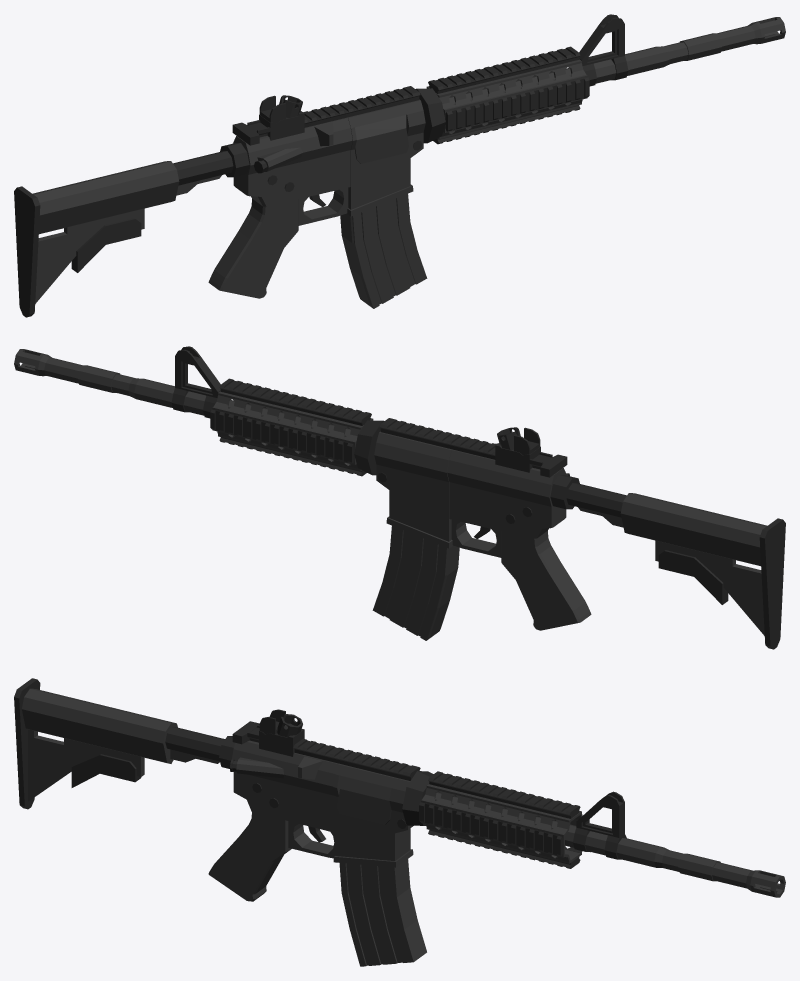
The model's file is Rifle.fbx.
3 renders of one model, top to bottom at view 1: azimuth 30°, elevation 25°; view 2: azimuth 150°, elevation 25°; view 3: azimuth 330°, elevation 25°, orthographic.
Parts seen in each view (by area): view 1: Weapon_02, Weapon_02_7, Weapon_02_2, Weapon_02_5, Weapon_02_6; view 2: Weapon_02, Weapon_02_7, Weapon_02_2, Weapon_02_5, Weapon_02_6; view 3: Weapon_02, Weapon_02_7, Weapon_02_2, Weapon_02_5, Weapon_02_6.
Boxes of the visible parts, left/top/right/bottom form: Weapon_02: left=173, top=17, right=785, bottom=298; Weapon_02_7: left=14, top=161, right=179, bottom=317; Weapon_02_2: left=340, top=193, right=427, bottom=308; Weapon_02_5: left=579, top=14, right=628, bottom=86; Weapon_02_6: left=259, top=95, right=304, bottom=140; Weapon_02: left=14, top=349, right=626, bottom=630; Weapon_02_7: left=620, top=493, right=785, bottom=649; Weapon_02_2: left=372, top=525, right=459, bottom=640; Weapon_02_5: left=171, top=346, right=220, bottom=418; Weapon_02_6: left=495, top=427, right=540, bottom=472; Weapon_02: left=165, top=725, right=785, bottom=901; Weapon_02_7: left=14, top=678, right=177, bottom=809; Weapon_02_2: left=339, top=859, right=426, bottom=966; Weapon_02_5: left=573, top=791, right=626, bottom=859; Weapon_02_6: left=259, top=709, right=304, bottom=756.
Bounding box in the file's own units: 98.41 × 28.32 × 7.17.
Materials: 1 (1 with a texture image).
